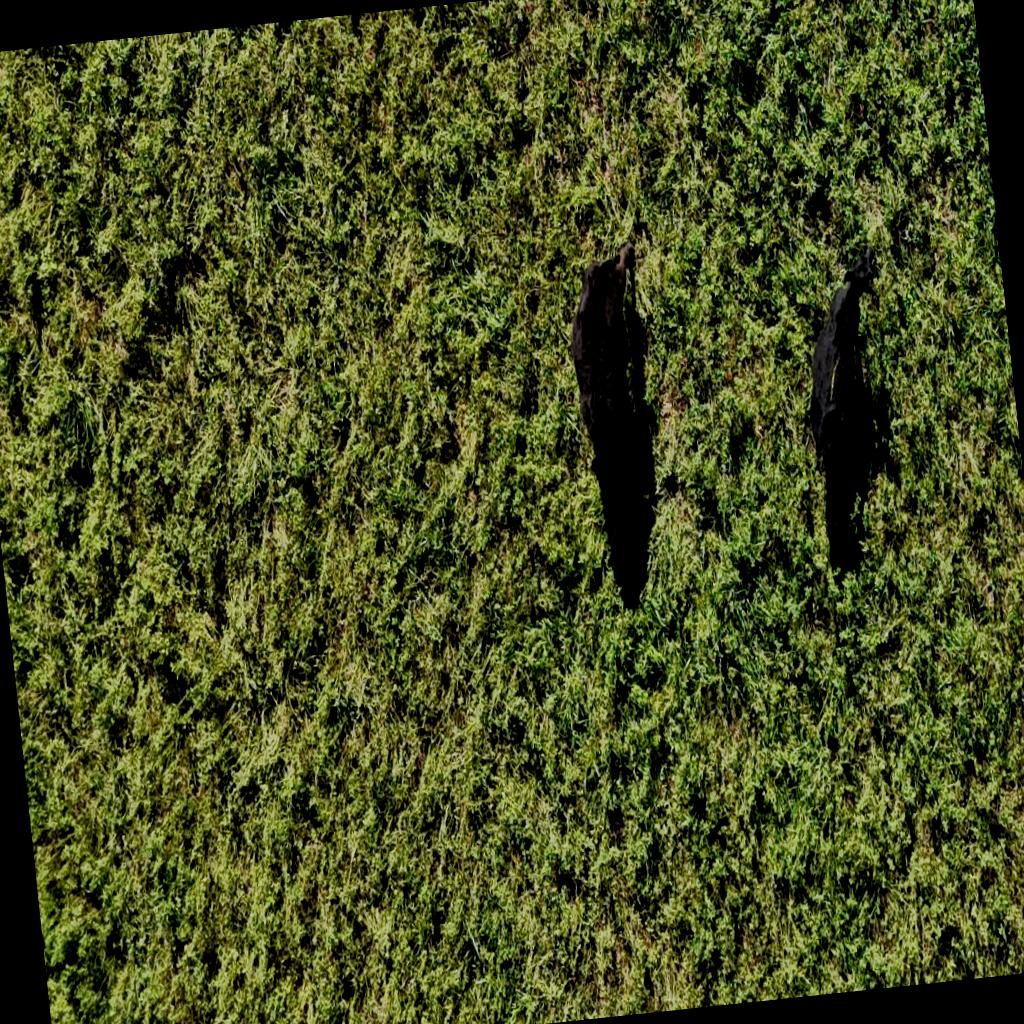cow: (553, 240, 670, 578), (788, 244, 907, 568)
